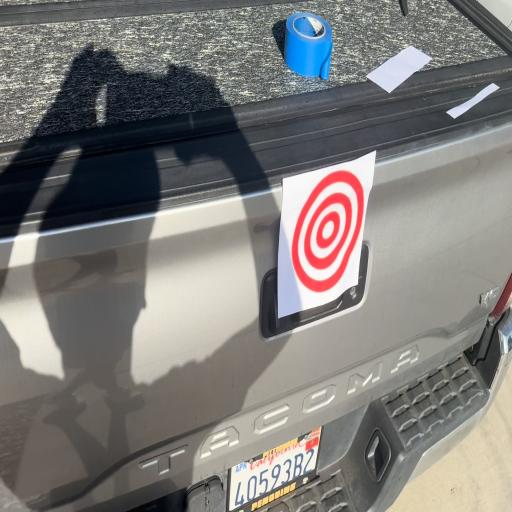bullseye: (287, 151, 375, 314)
